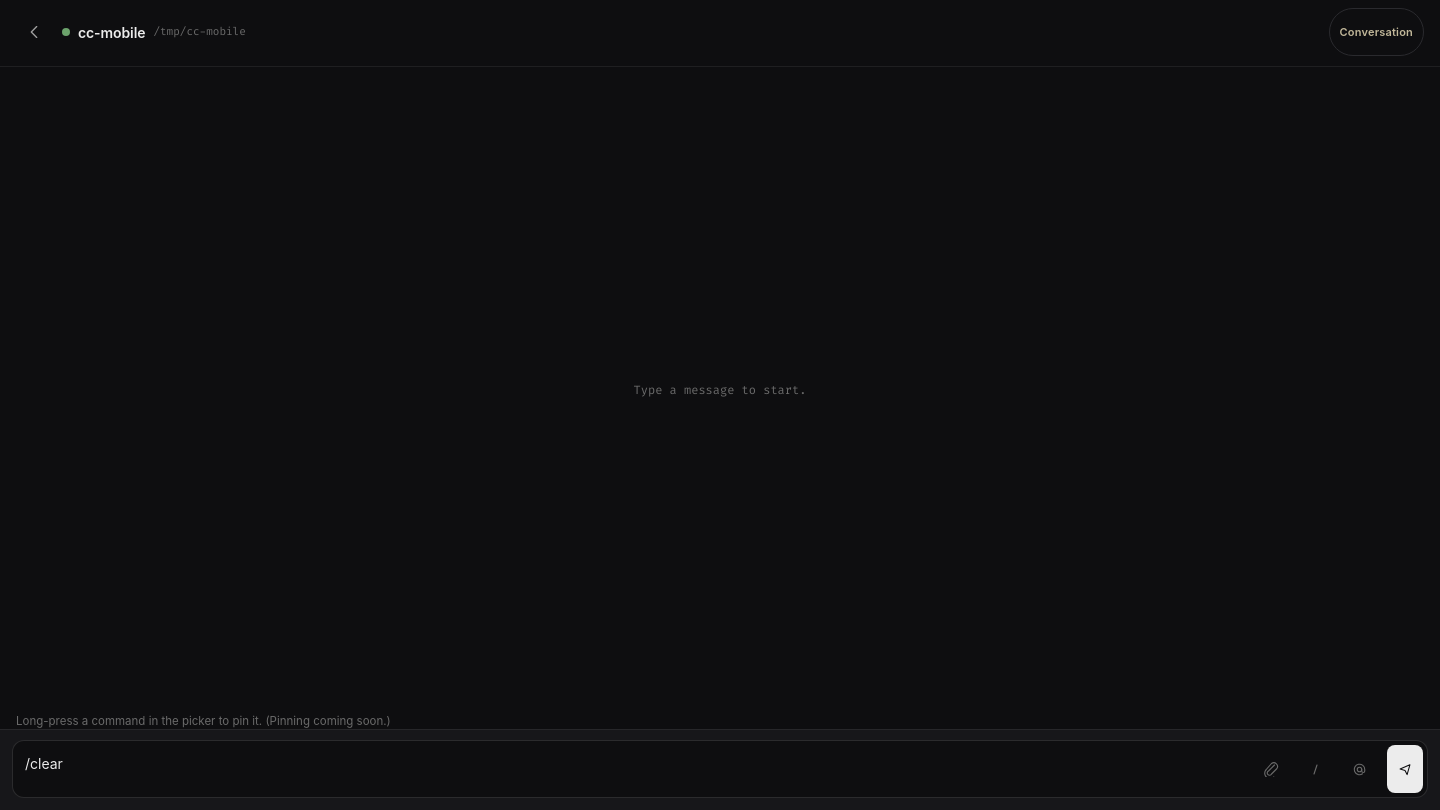
PickerSheetTerminates › T3: ready with no agents shows No agents available
Click the button named "Insert agent mention". click: (1359, 769)
box: x1=1341 y1=745 x2=1377 y2=793
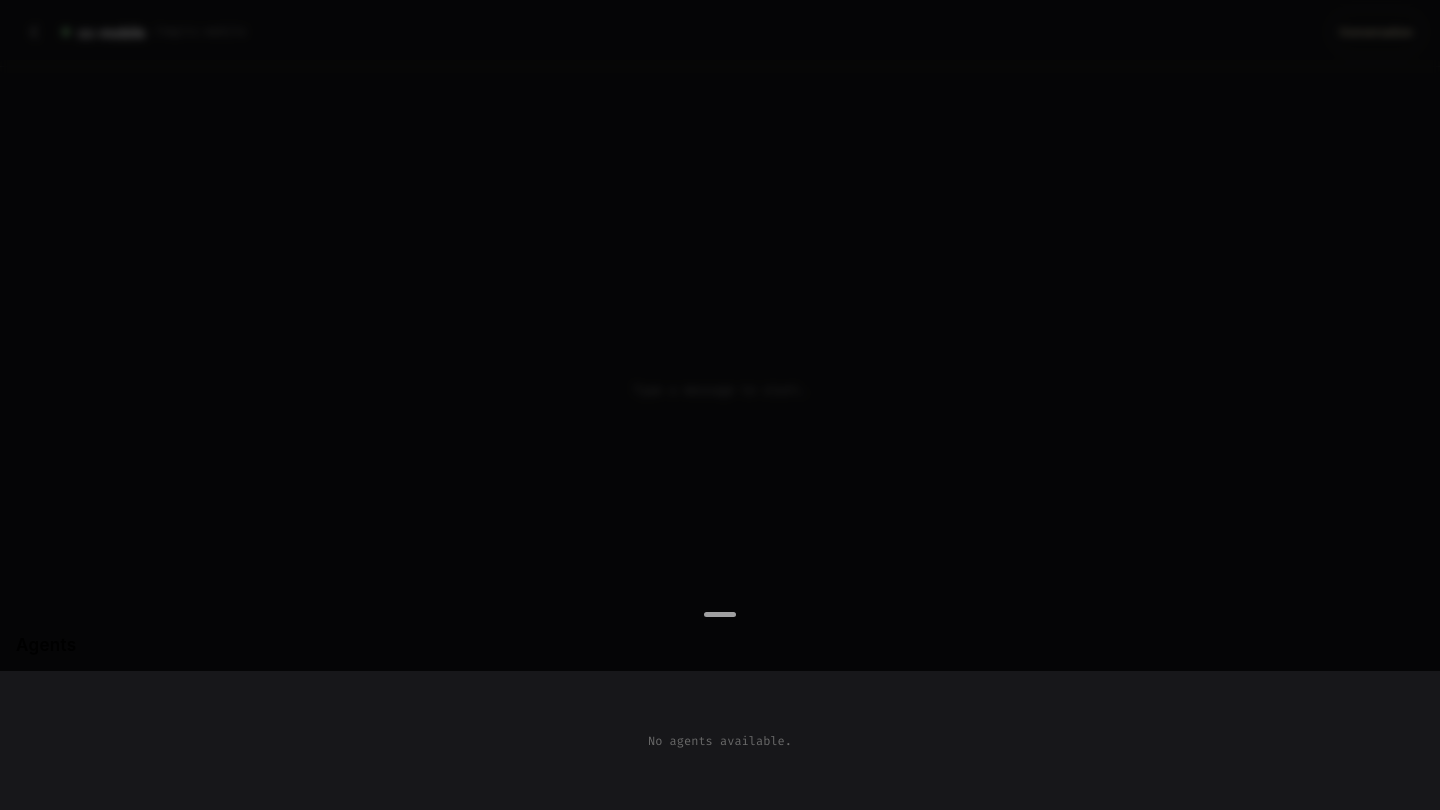
Now the text "No agents available." is shown, box x1=648 y1=732 x2=792 y2=748
